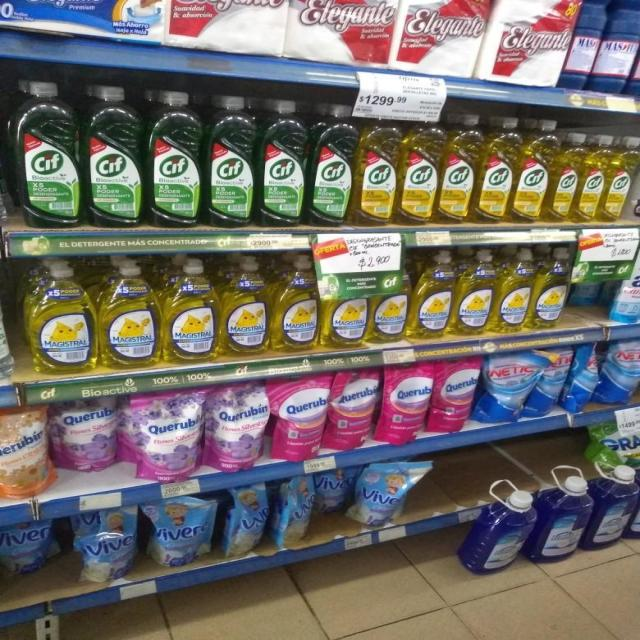cif_conc_bot_amarilla: (355, 110, 398, 228), (400, 112, 440, 228), (441, 114, 477, 225), (478, 116, 514, 225), (515, 118, 550, 224), (551, 130, 579, 223), (606, 135, 632, 223), (580, 134, 605, 224), (632, 136, 640, 220)
cif_conc_botella_verde: (13, 81, 80, 229), (84, 85, 143, 229), (147, 89, 203, 229), (205, 94, 255, 229), (258, 99, 307, 228), (309, 102, 354, 228)
magistral_con_amarillo: (26, 260, 96, 375), (99, 260, 160, 369), (162, 258, 218, 364), (221, 255, 270, 357), (273, 255, 319, 352), (411, 250, 453, 340), (322, 268, 366, 349), (455, 248, 494, 337), (496, 248, 532, 334), (533, 247, 569, 330), (369, 271, 408, 344)
